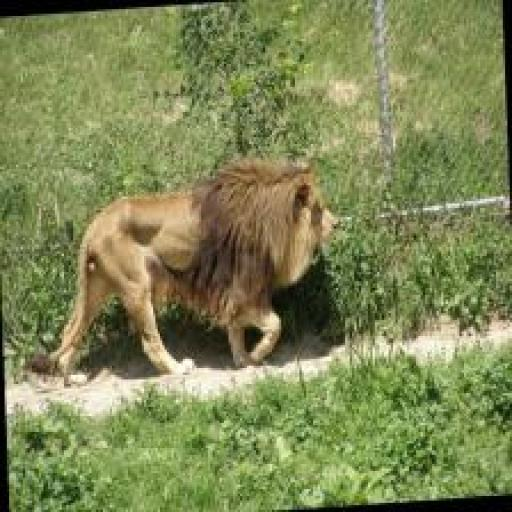lion: (21, 151, 344, 391)
